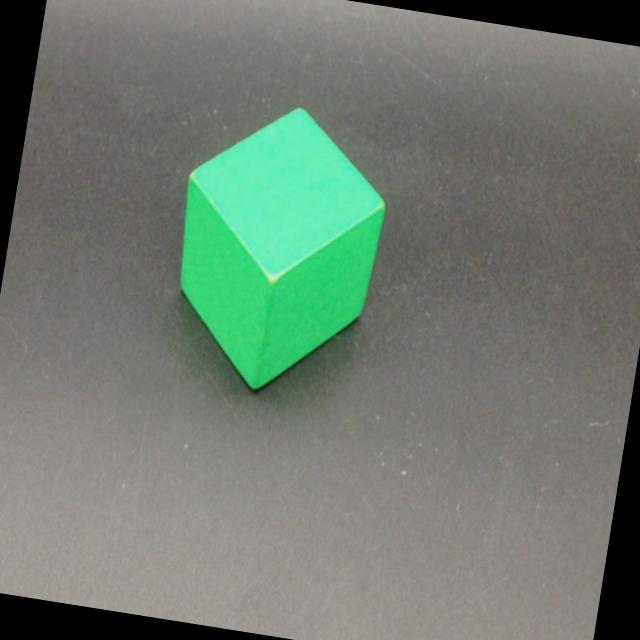green cube: (179, 111, 385, 394)
